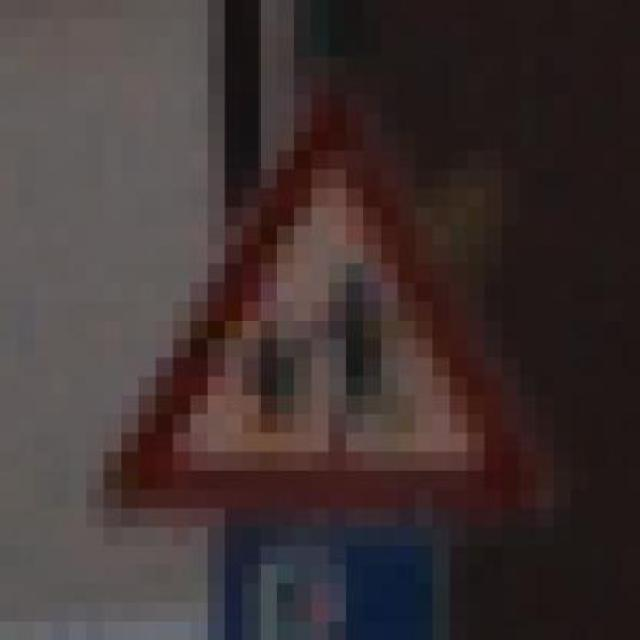Beware of children: (86, 75, 537, 528)
